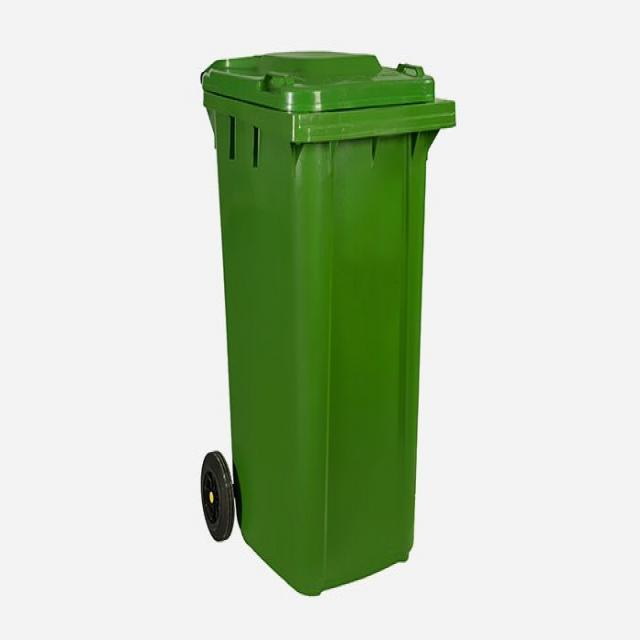Dumpster: (196, 46, 455, 598)
